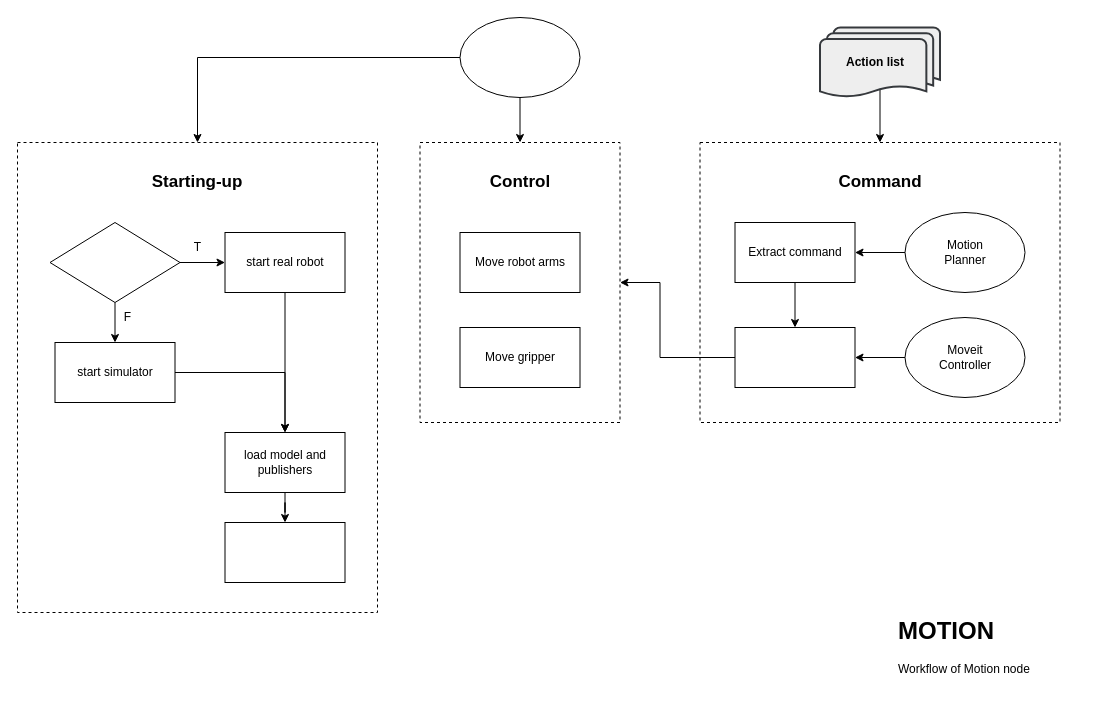
The diagram is 1101 pixels wide and 719 high, and some of its shapes have lost their labels. Here are the shapes that lost their labels. From the top down, the box of each, then its label:
(459, 16, 580, 98): UR5Controller
(49, 222, 180, 302): check real robot
(734, 326, 855, 388): Compute trajectory
(224, 522, 345, 582): homing procedure
